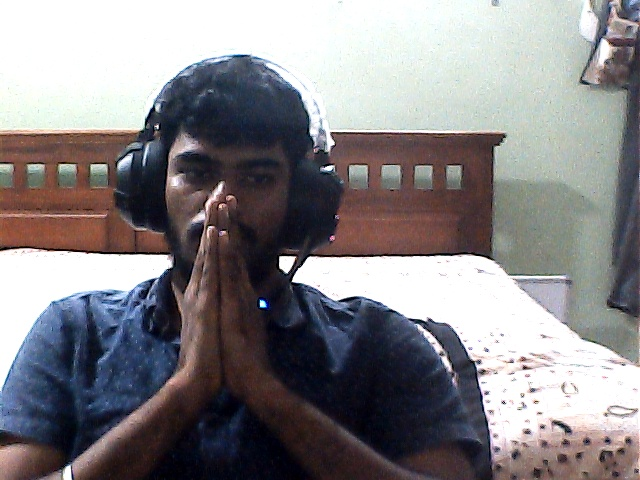Sign: (167, 200, 274, 411)
